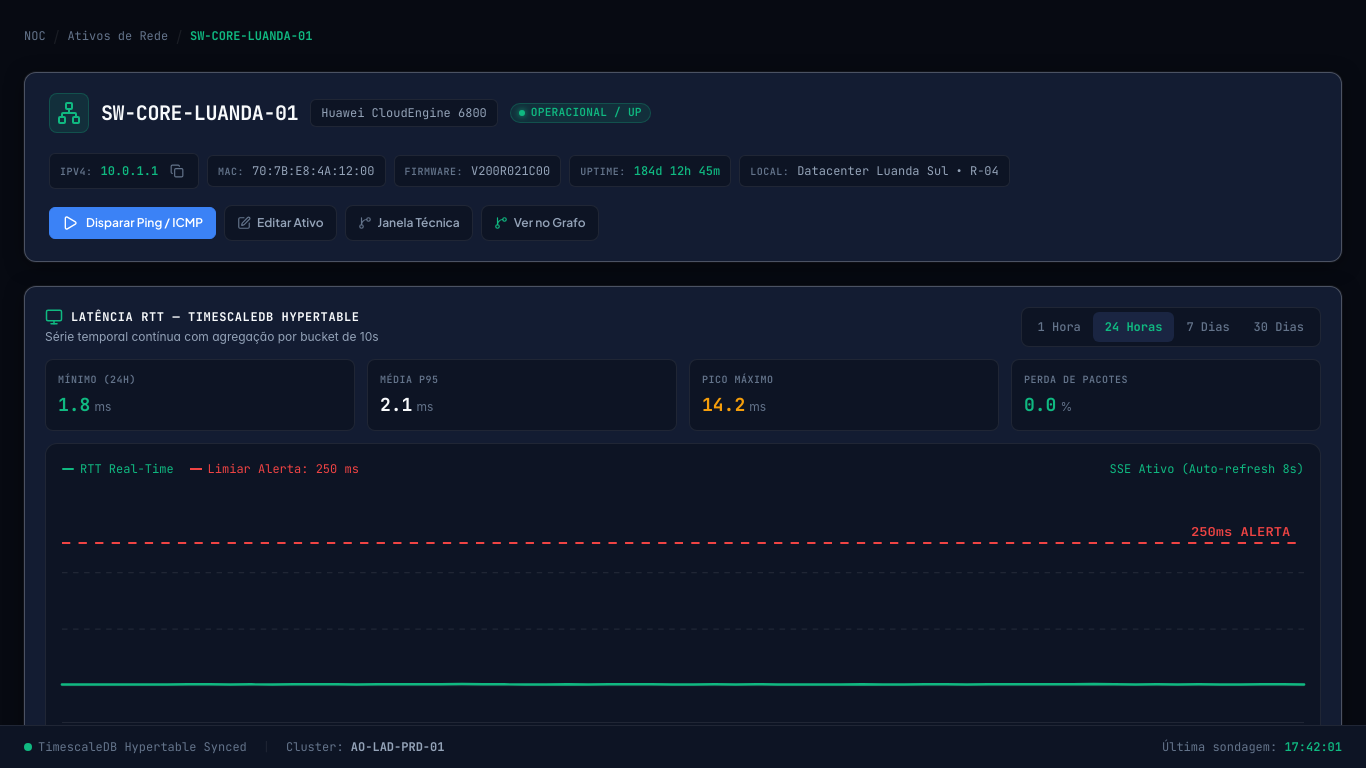
Scenario: DeviceDetailPage — Cockpit 360° do Dispositivo (Issue #244) › Ações Imediatas › deve disparar probe manual ICMP e exibir toast de sucesso
The image size is (1366, 768).
Click the button "Disparar Ping / ICMP": (133, 223) [49,207,216,239]
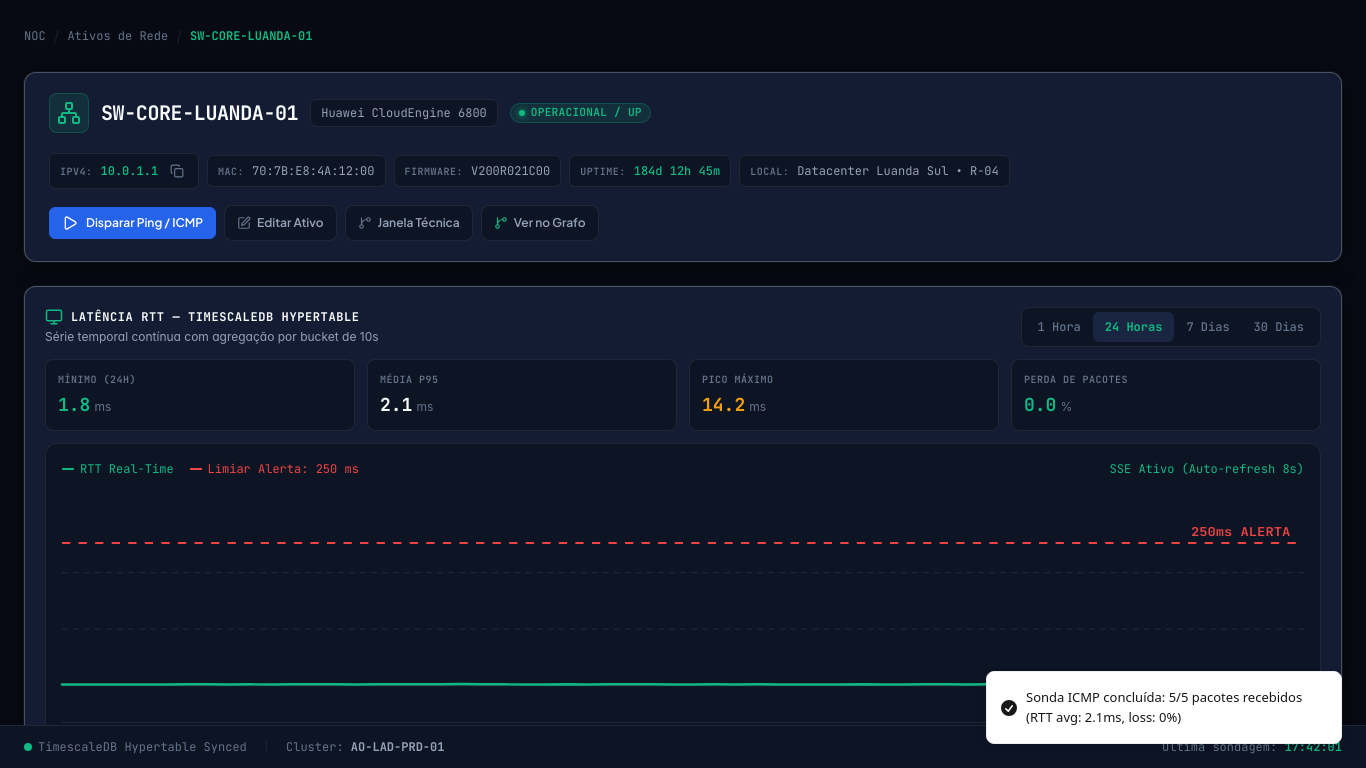
Expected: the text "Sonda ICMP concluída" is shown, [1026,688,1302,726]
